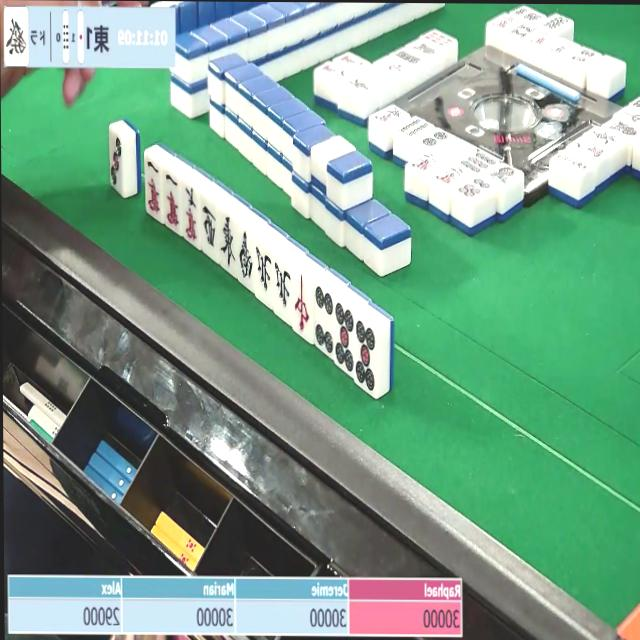1C: (163, 171, 183, 232), (145, 158, 162, 219)
3D: (109, 133, 123, 193)
4D: (312, 285, 334, 358)
5D: (354, 320, 376, 397), (334, 303, 356, 377)
7C: (181, 184, 199, 248)
EW: (217, 212, 235, 275)
GD: (0, 7, 26, 62)
NW: (256, 244, 274, 300), (274, 261, 292, 314)
RD: (291, 272, 311, 341)
SW: (237, 229, 255, 288)
WW: (199, 199, 217, 257)
